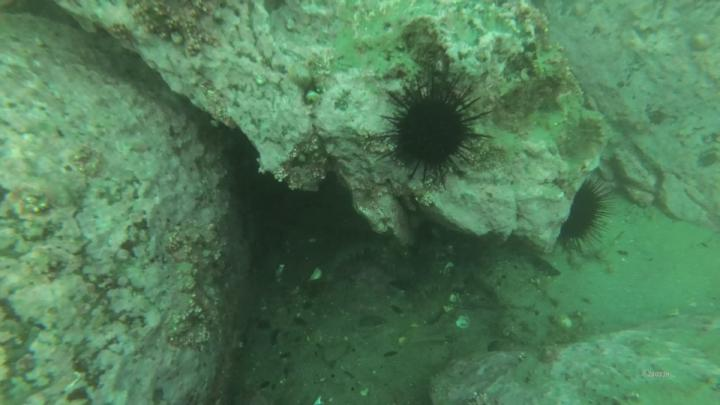echinus: (394, 92, 474, 169), (564, 187, 604, 244)
